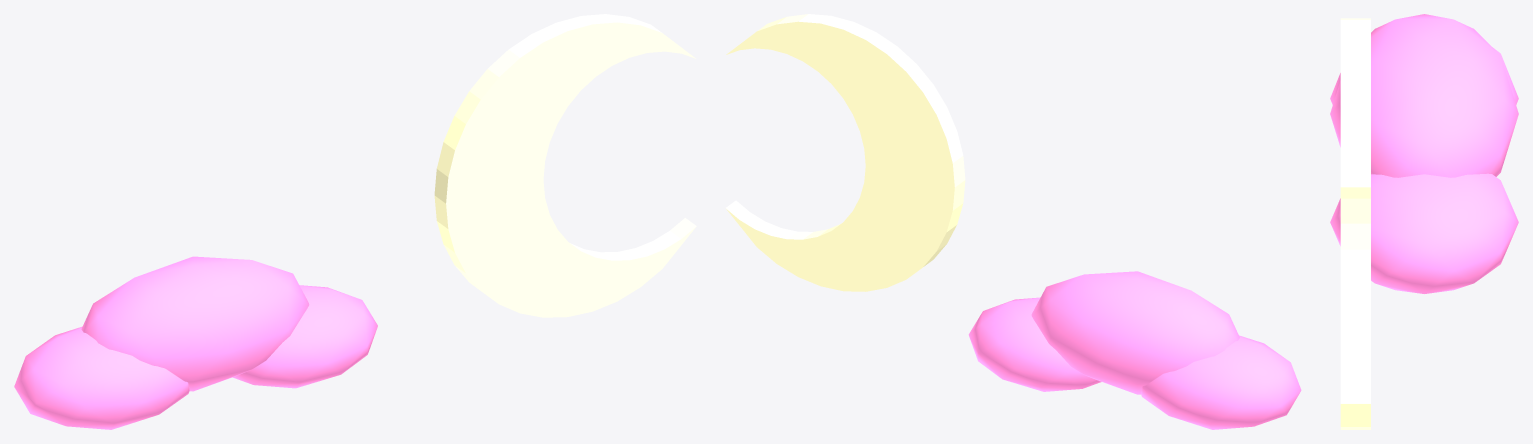
Rendered from sfv2_moon_cloud.glb.
The picture shows the model from 3 angles, left to right: view 1: azimuth 30°, elevation 25°; view 2: azimuth 150°, elevation 25°; view 3: azimuth 270°, elevation 25°; orthographic projection. The views are drawn at different scales.
Visible parts, largest first — view 1: sfv2_moon_cloud__sf_emissive_pink, sfv2_moon_cloud__sf_moon_cream; view 2: sfv2_moon_cloud__sf_emissive_pink, sfv2_moon_cloud__sf_moon_cream; view 3: sfv2_moon_cloud__sf_emissive_pink, sfv2_moon_cloud__sf_moon_cream.
Part boxes in pixels (left/top/right/bottom): sfv2_moon_cloud__sf_emissive_pink: left=14, top=256, right=377, bottom=429; sfv2_moon_cloud__sf_moon_cream: left=434, top=14, right=696, bottom=317; sfv2_moon_cloud__sf_emissive_pink: left=968, top=271, right=1301, bottom=429; sfv2_moon_cloud__sf_moon_cream: left=725, top=14, right=965, bottom=291; sfv2_moon_cloud__sf_emissive_pink: left=1330, top=14, right=1518, bottom=293; sfv2_moon_cloud__sf_moon_cream: left=1340, top=18, right=1370, bottom=429.
Size of the model in its own units: 30.92 by 14.4 by 6.1.
